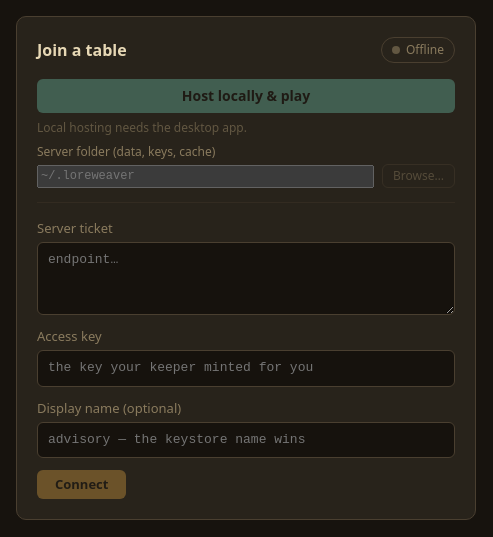
Test case: PlayView › disables connect until ticket and key are filled
The image size is (493, 537).
Check: the button "Connect" is disabled, box left=37, top=470, right=126, bottom=499
In the text box labelled "Server ticket": [246, 279] box left=37, top=242, right=455, bottom=315, type "endpoint-abc"
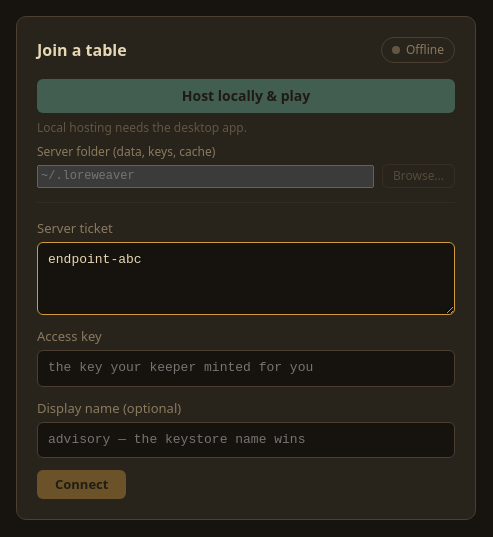
Check: the button "Connect" is disabled, box left=37, top=470, right=126, bottom=499
In the field labelled "Access key": [246, 368] box left=37, top=350, right=455, bottom=387, type "k-1"
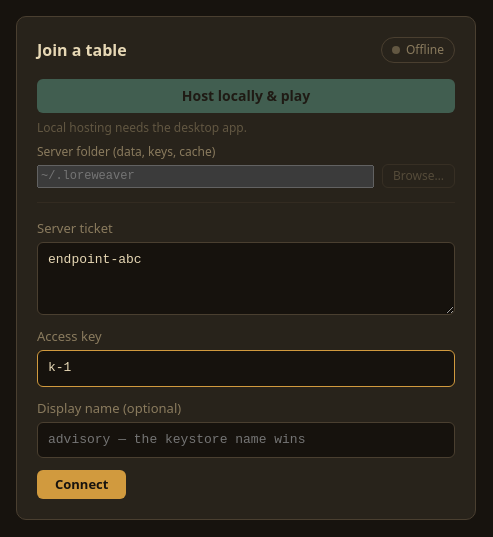
Check: the button "Connect" is enabled, box left=37, top=470, right=126, bottom=499
